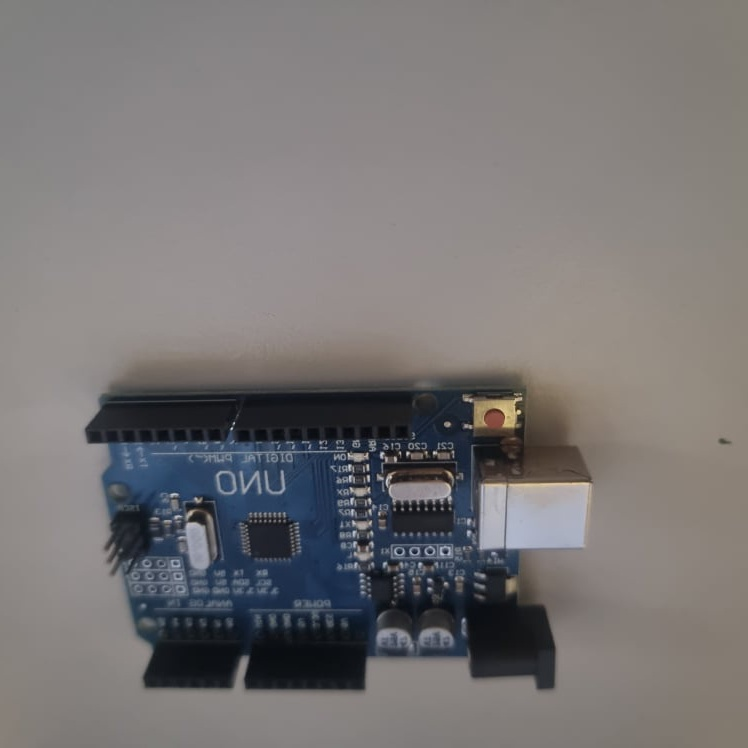UNO R3: (84, 391, 595, 689)
